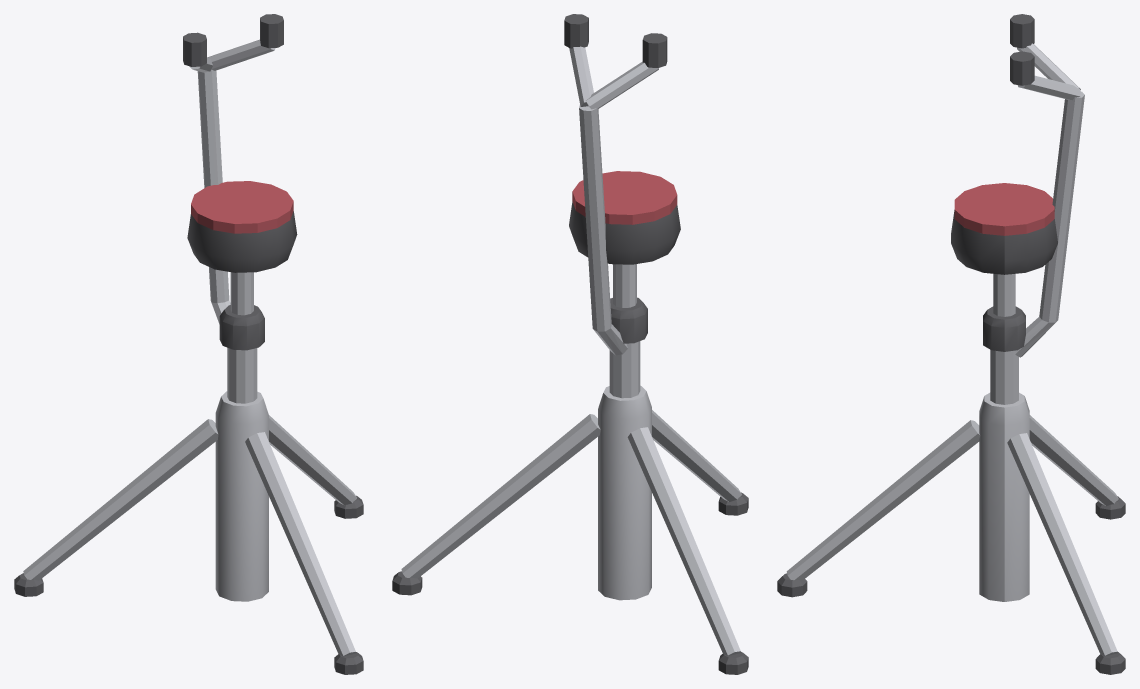
File: orchestra-and-band-instruments-saxophone-stand-ea0d310c__39319.glb
The picture shows the model from 3 angles, left to right: view 1: azimuth 30°, elevation 25°; view 2: azimuth 150°, elevation 25°; view 3: azimuth 270°, elevation 25°; orthographic projection. The views are drawn at different scales.
Parts seen in each view (by area): view 1: saxophone-stand; view 2: saxophone-stand; view 3: saxophone-stand.
Boxes of the visible parts, x1,y1,x2,y2 form: saxophone-stand: (14,14,363,674); saxophone-stand: (392,14,748,674); saxophone-stand: (777,14,1125,674).
Bounding box in the file's own units: 0.4497 × 0.69 × 0.394.
